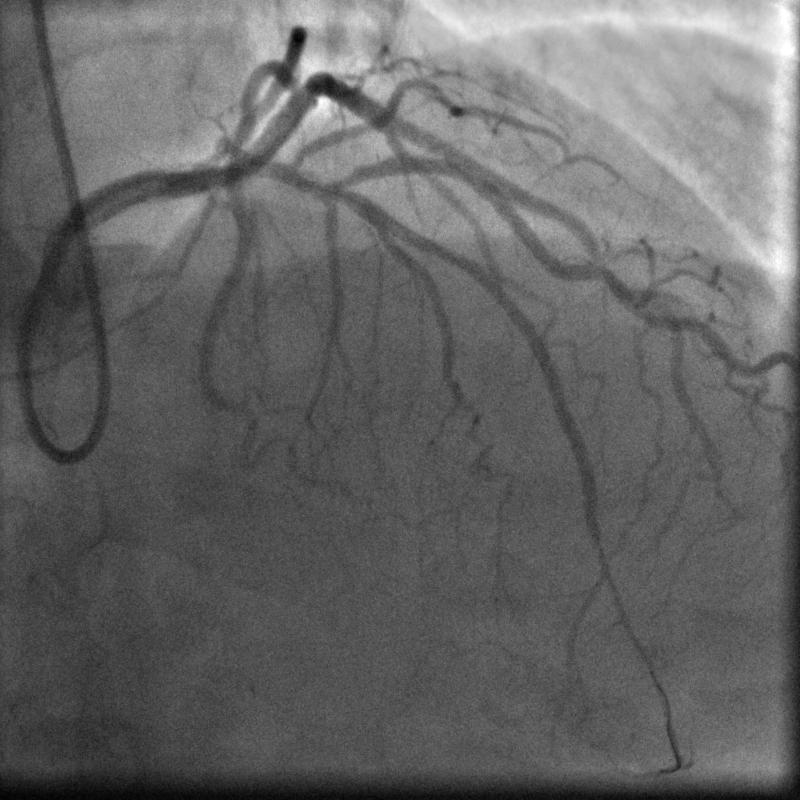Stenosis: (448, 155, 488, 201)
